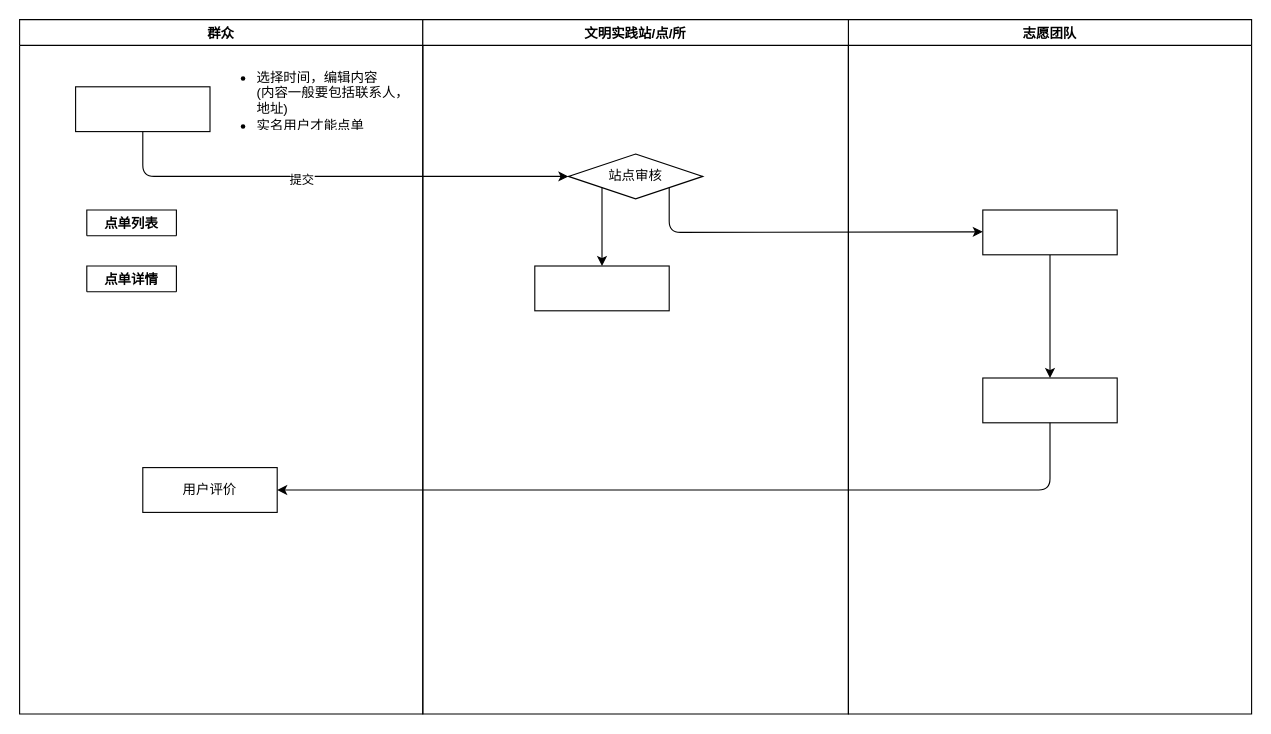
This 1271x734 diagram has some shape labels left out. Each missing label, with the centre of its shape:
团队完成接单: pixel 1049 400
团队接单: pixel 1049 232
审核未通过: pixel 601 288
点单: pixel 142 109
